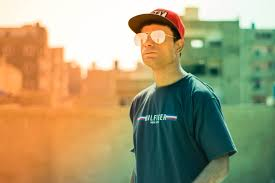T-Shirt_Regular: (125, 67, 242, 182)
